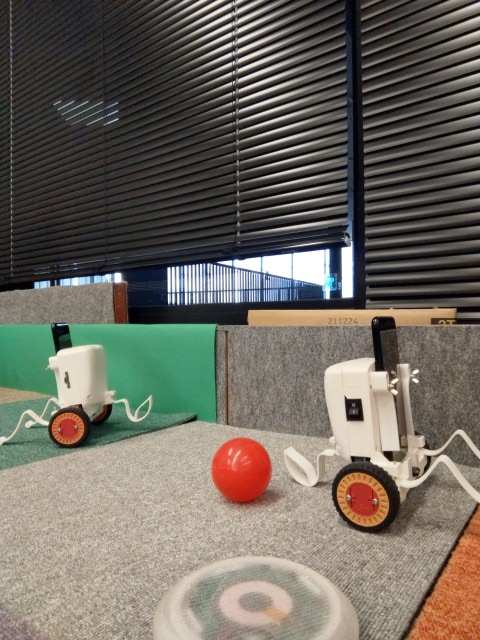bl: (1, 320, 157, 455)
br: (278, 315, 480, 535)
o: (154, 556, 360, 640)
